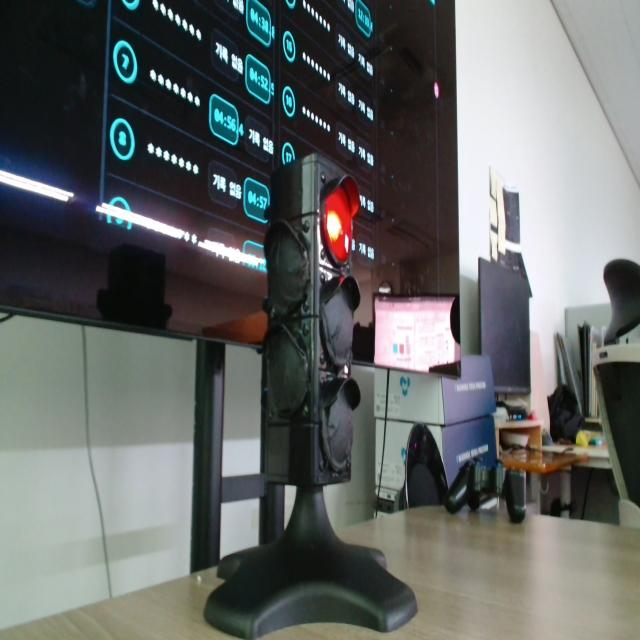red_light: (324, 178, 359, 264)
